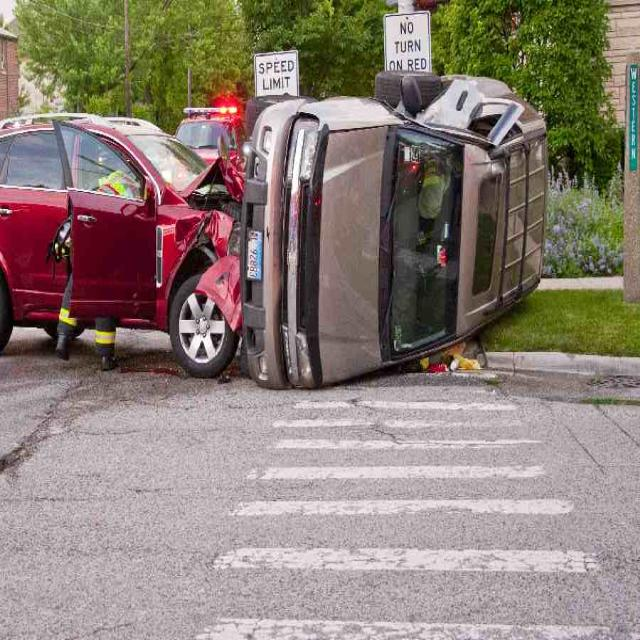accident: (241, 71, 545, 388), (0, 118, 244, 377)
